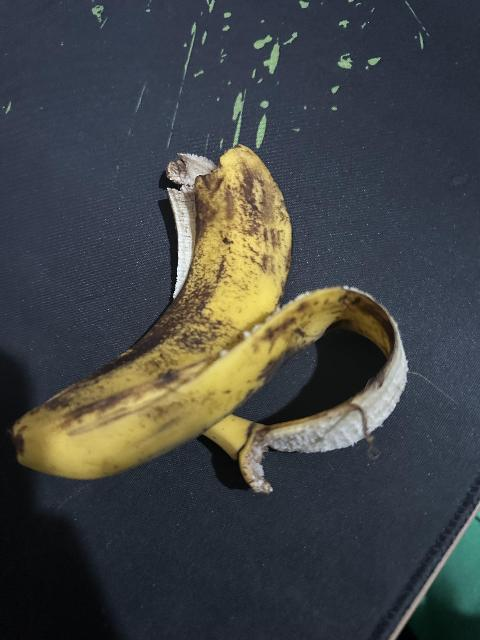Organik: (16, 135, 416, 500)
